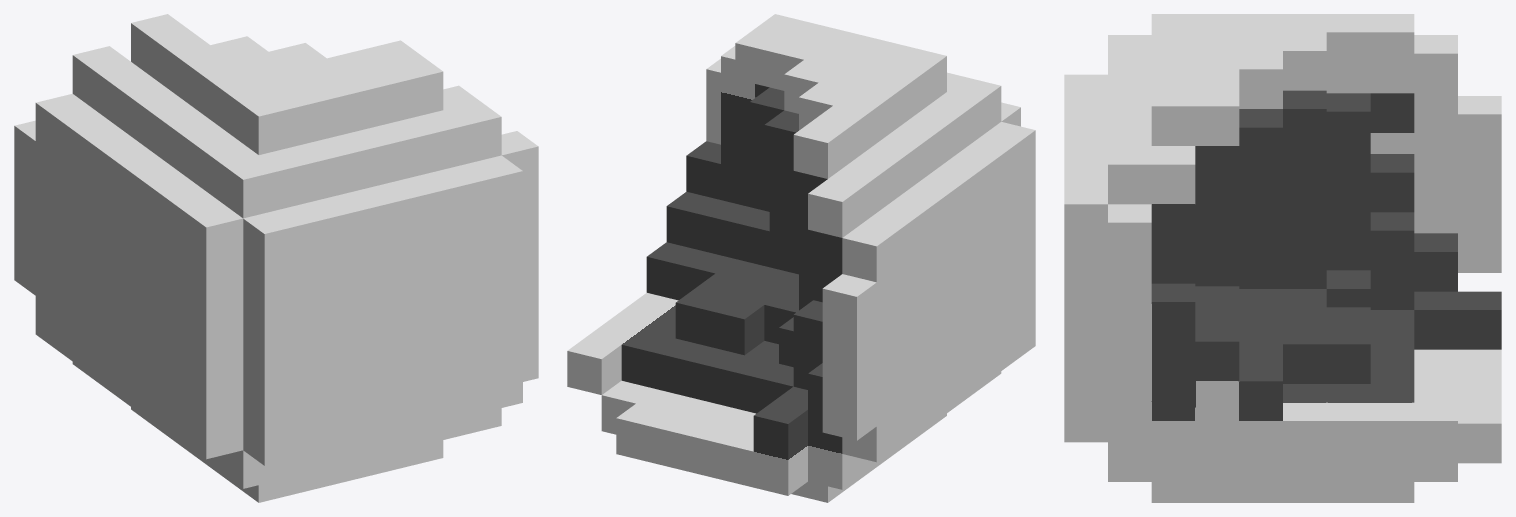
The model's file is alien_egg3.dae.
The picture shows the model from 3 angles, left to right: view 1: azimuth 30°, elevation 25°; view 2: azimuth 150°, elevation 25°; view 3: azimuth 270°, elevation 25°; orthographic projection. The views are drawn at different scales.
Visible parts, largest first — view 1: alien_egg3; view 2: alien_egg3; view 3: alien_egg3.
Boxes of the visible parts, left/top/right/bottom form: alien_egg3: left=14, top=14, right=538, bottom=502; alien_egg3: left=567, top=14, right=1035, bottom=502; alien_egg3: left=1064, top=14, right=1501, bottom=502.
Size of the model in its own units: 0.9 by 1 by 1.
1 material, 1 textured.
